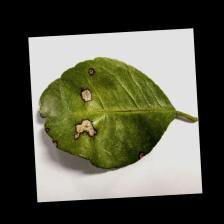canker: (36, 68, 102, 150)
